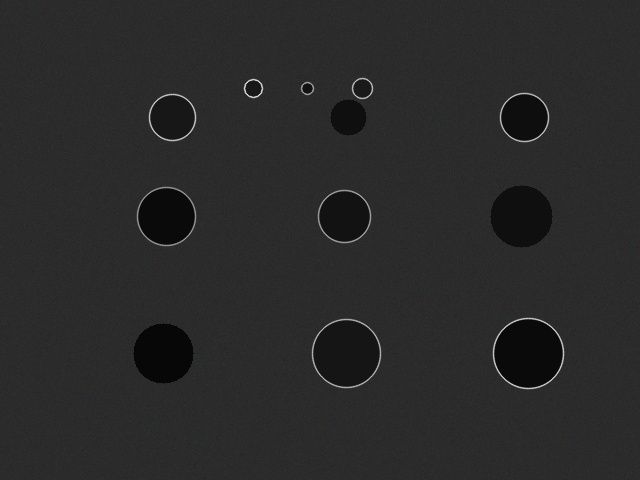hole: (493, 318, 563, 388), (312, 319, 380, 387), (490, 185, 552, 247), (133, 323, 193, 383), (137, 187, 195, 245), (318, 190, 370, 242), (500, 93, 548, 141), (149, 94, 195, 140), (330, 99, 366, 135), (352, 78, 372, 98), (244, 79, 262, 97), (301, 82, 313, 94)
